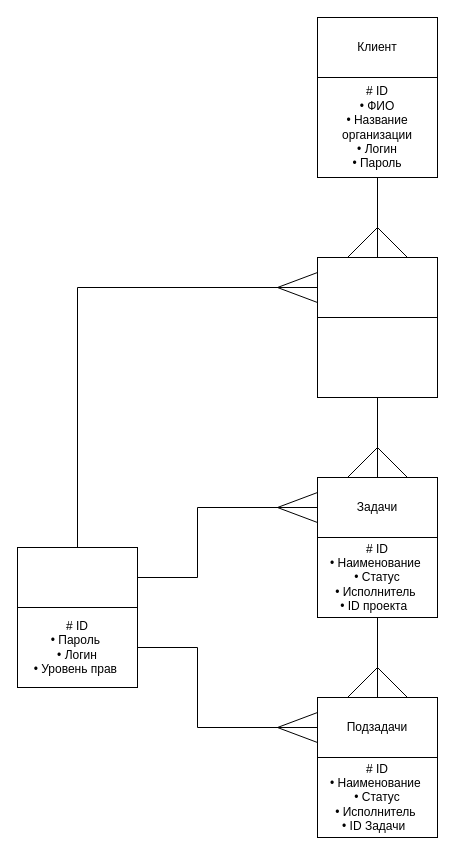
The diagram is 455 pixels wide and 855 high, and some of its shapes have lost their labels. The box of each missing label's shape, as (x1, y1, x2, y2) in pixels:
# ID • Наименование • Заказчик • Статус • Исполнитель: (316, 316, 438, 398)
Пользователь: (16, 546, 138, 608)
Проект: (316, 256, 438, 318)
